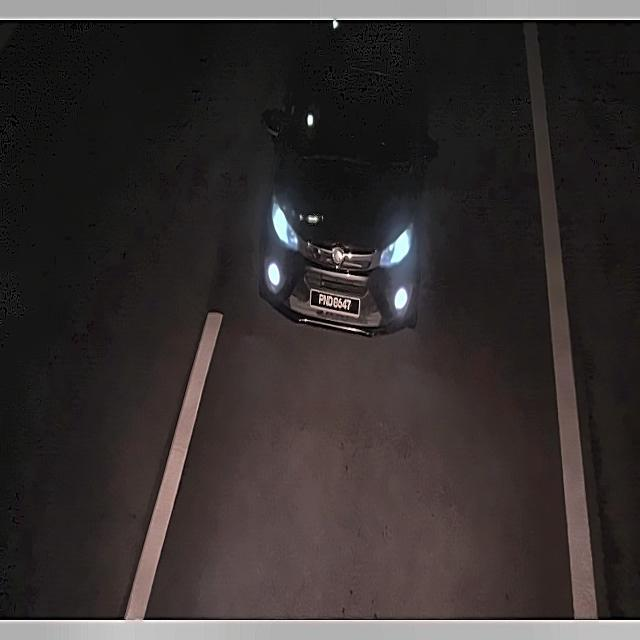car: (307, 281, 366, 324)
